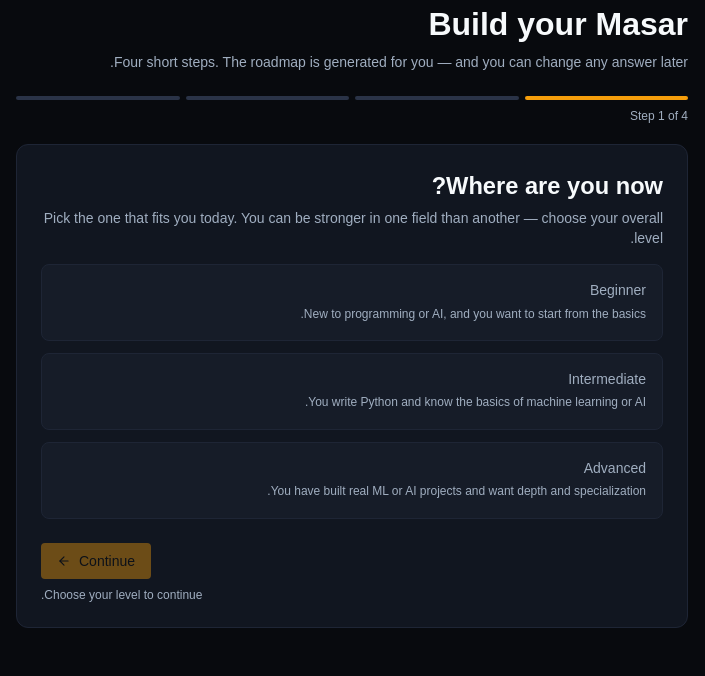
step 2 — what are you interested in? › is honest about fields that have no published content yet
Click the radio button labelled "Intermediate" at (607, 379), box [41, 353, 663, 430]
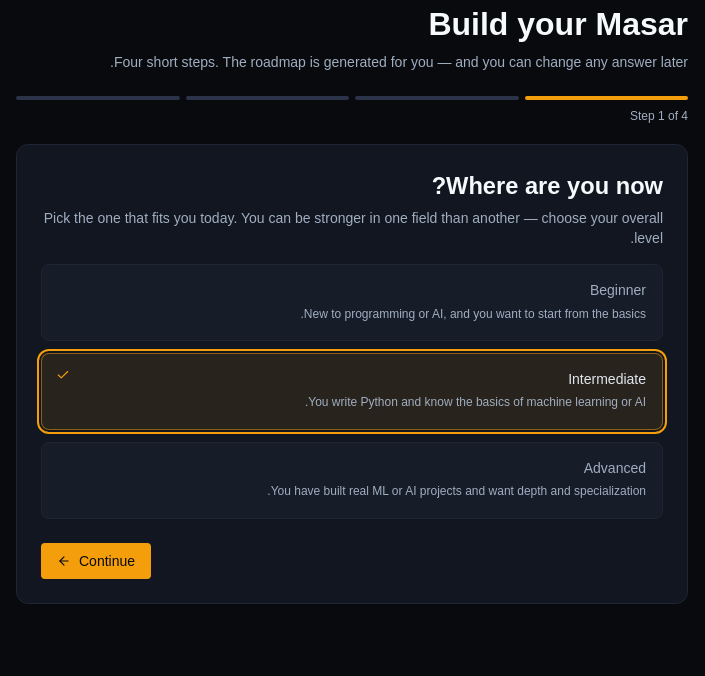
Click the button "Continue" at (96, 561), box [41, 543, 151, 579]
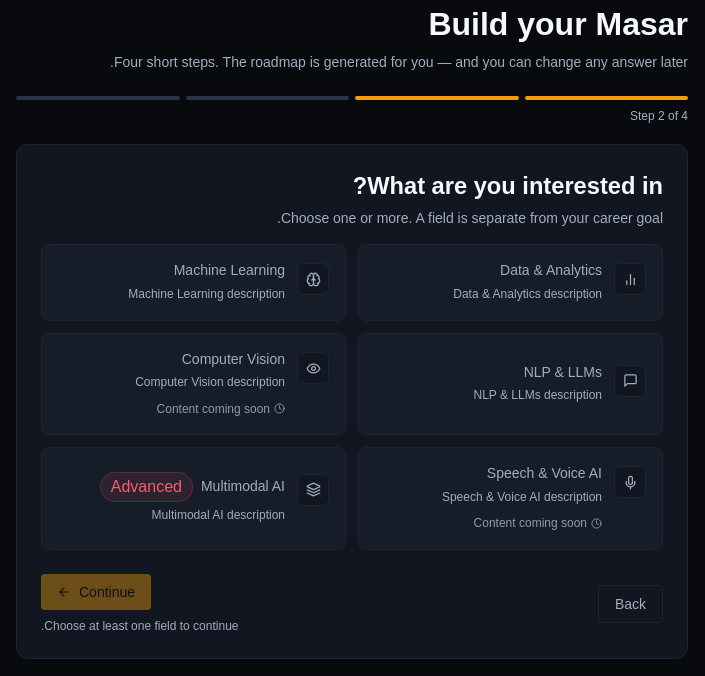
Now the 1st text "Content coming soon" is shown, box [157, 401, 285, 417]
